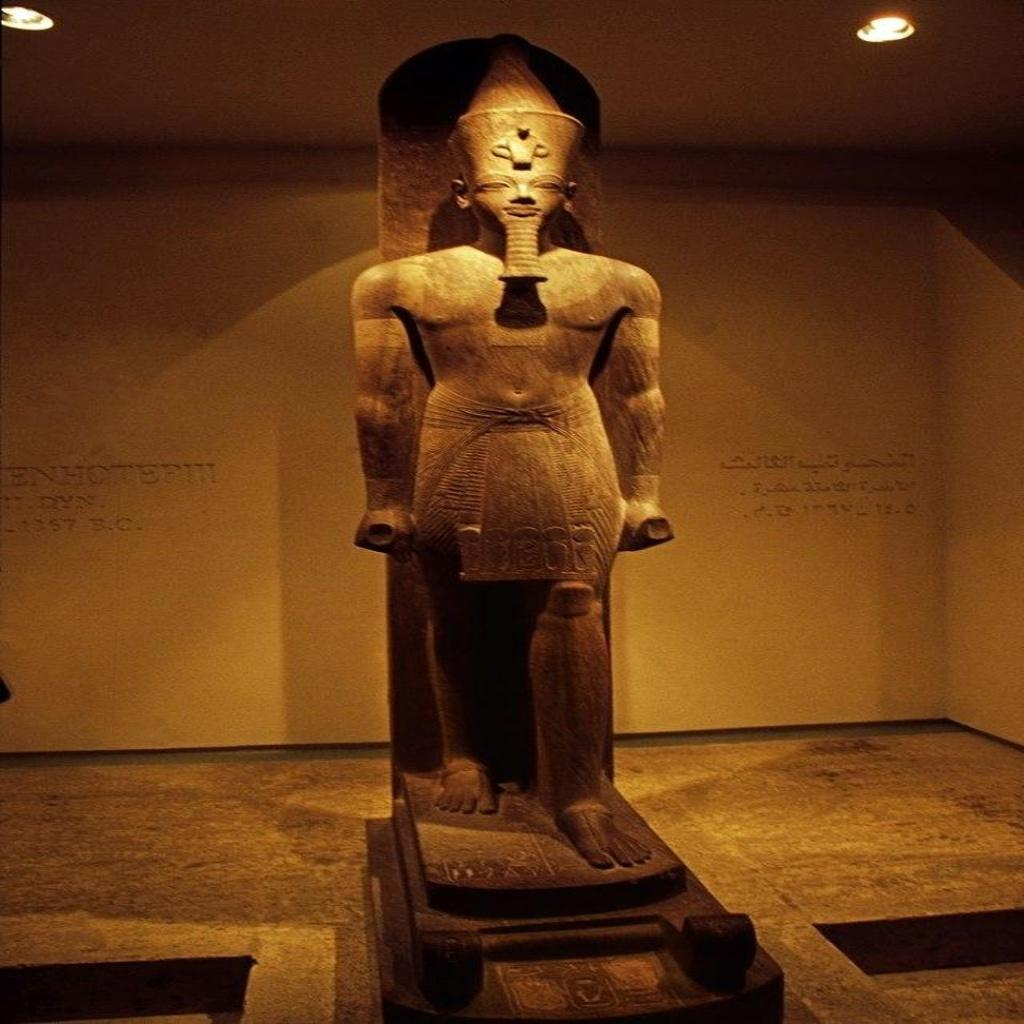Amenhotep III: (342, 32, 684, 878)
